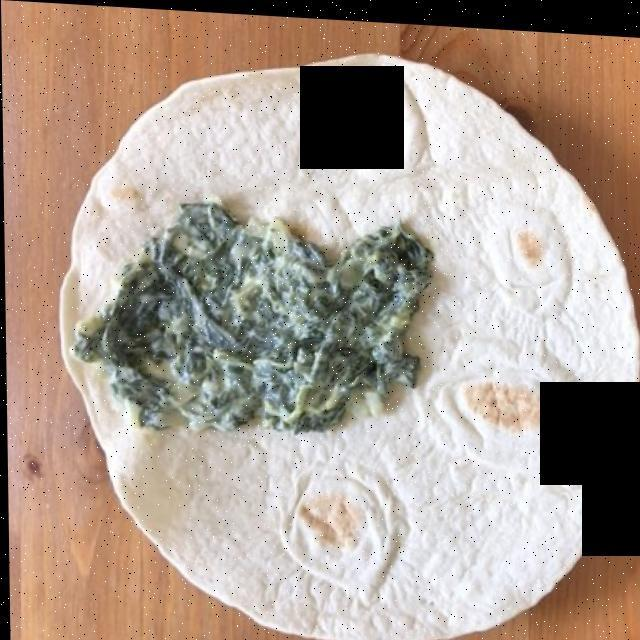bread: (60, 66, 639, 630)
cream-spinach: (102, 194, 430, 430)
